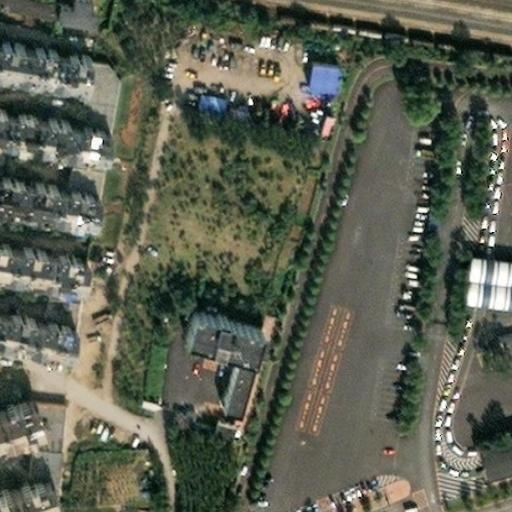building: (53, 46, 107, 182), (16, 391, 53, 501), (452, 244, 512, 300), (174, 297, 247, 342), (467, 426, 512, 469), (160, 398, 222, 426), (209, 348, 238, 402), (34, 275, 71, 314), (306, 65, 336, 93), (489, 322, 512, 353), (313, 107, 336, 137), (184, 83, 217, 103)
